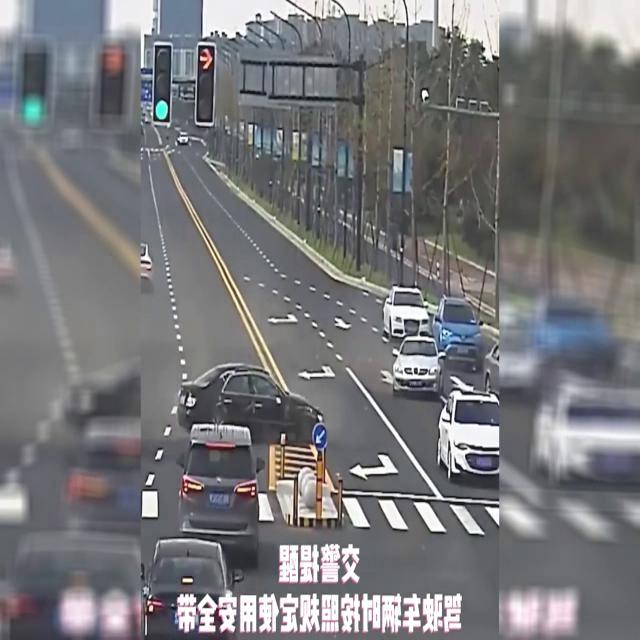non-accident: (178, 362, 328, 570), (389, 337, 499, 483), (383, 285, 483, 397)
